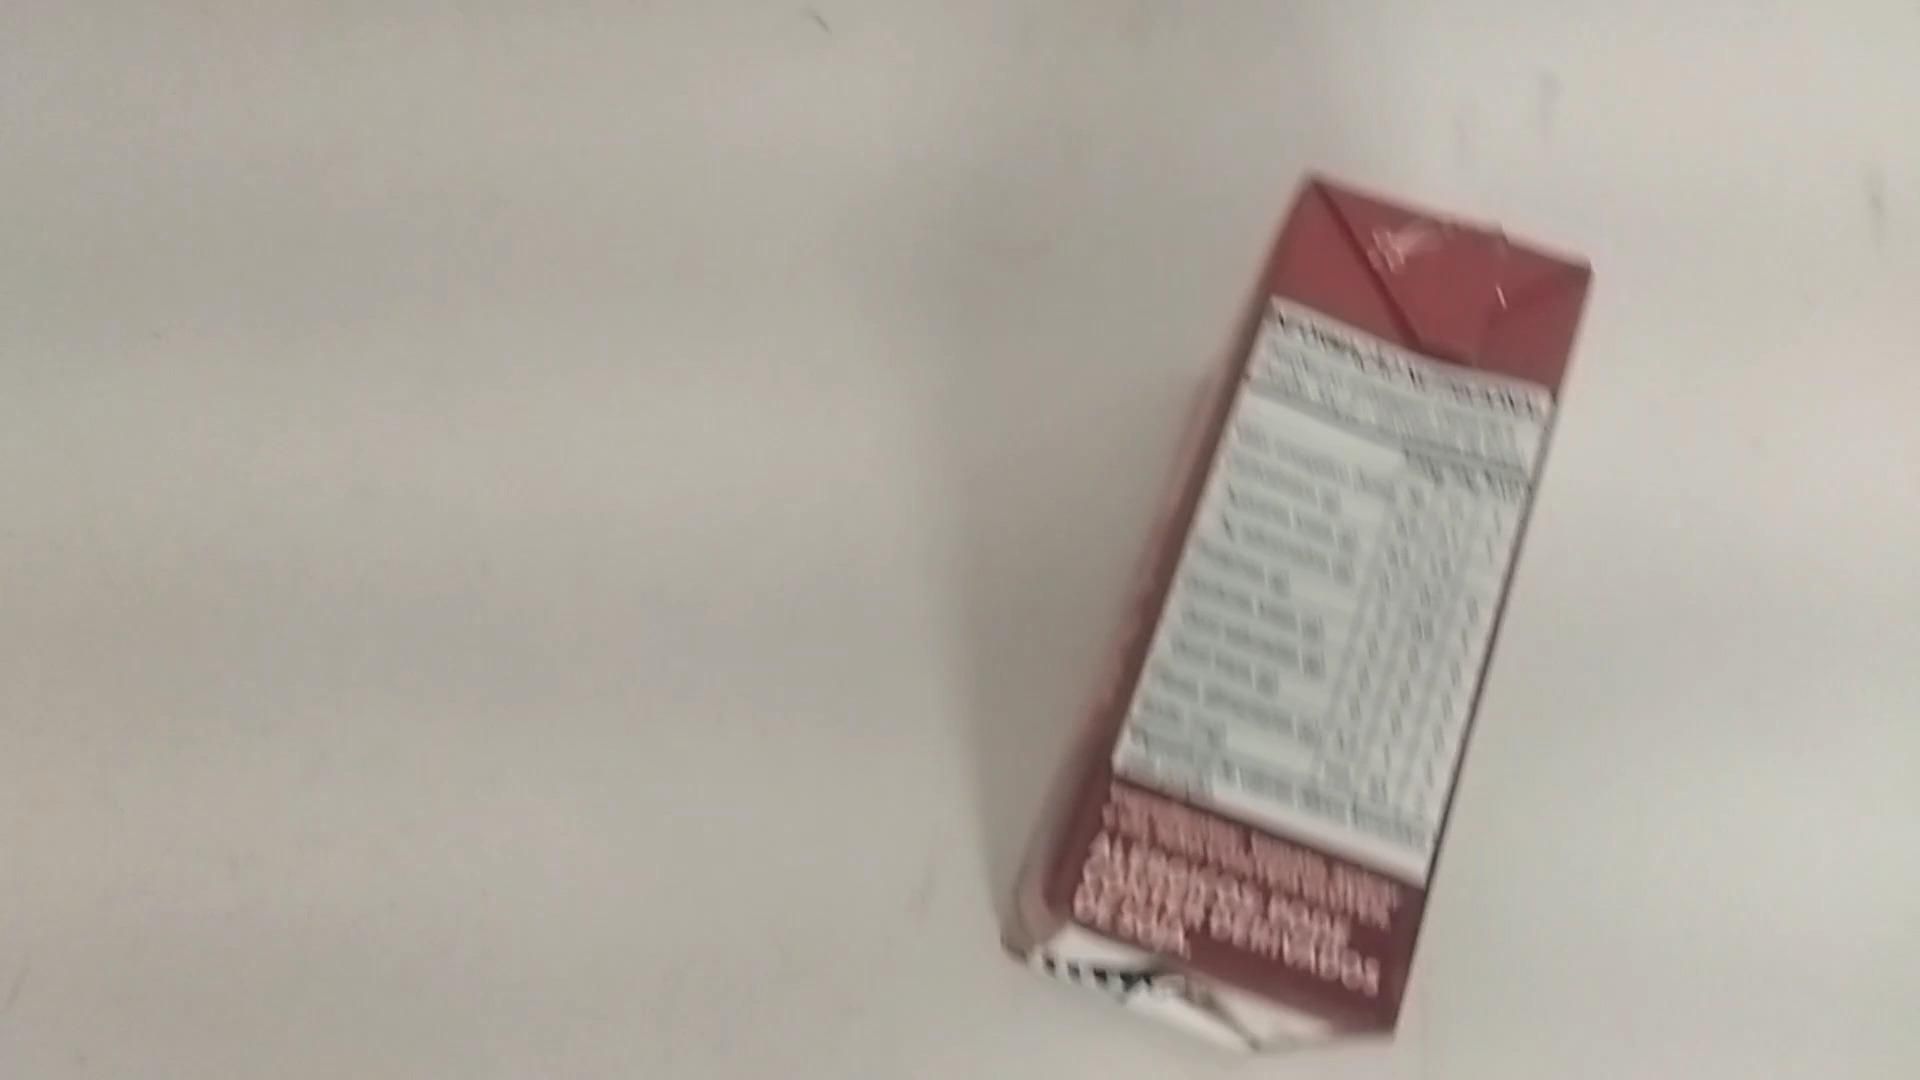tomate: (928, 120, 1879, 1074)
